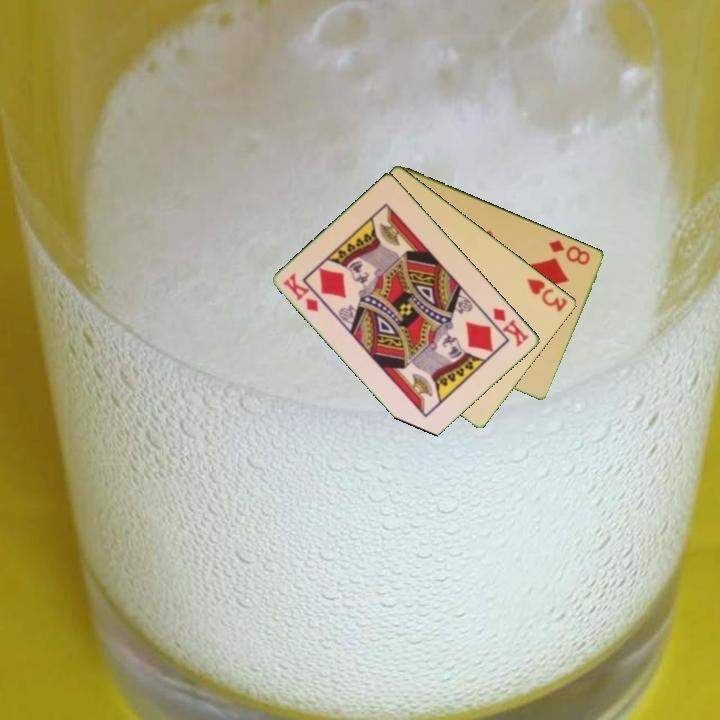3h: (523, 274, 571, 315)
8d: (545, 236, 593, 268)
Kd: (489, 304, 532, 350), (280, 270, 322, 315)
